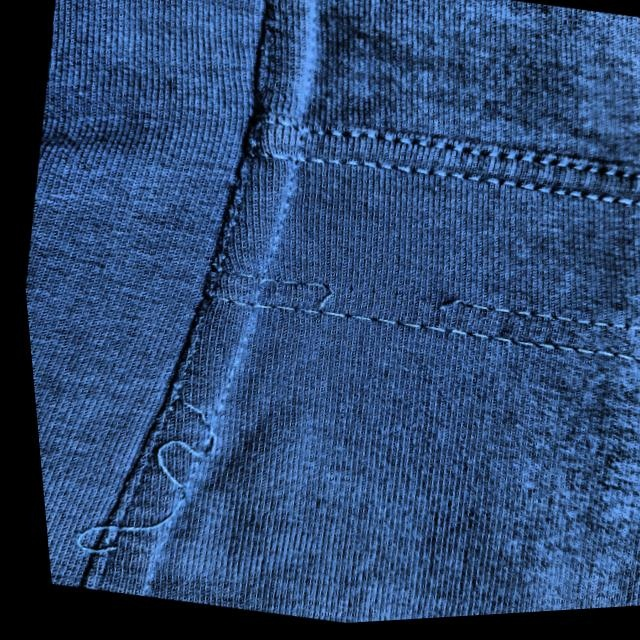Stitch: (39, 359, 257, 609), (282, 249, 488, 355)
